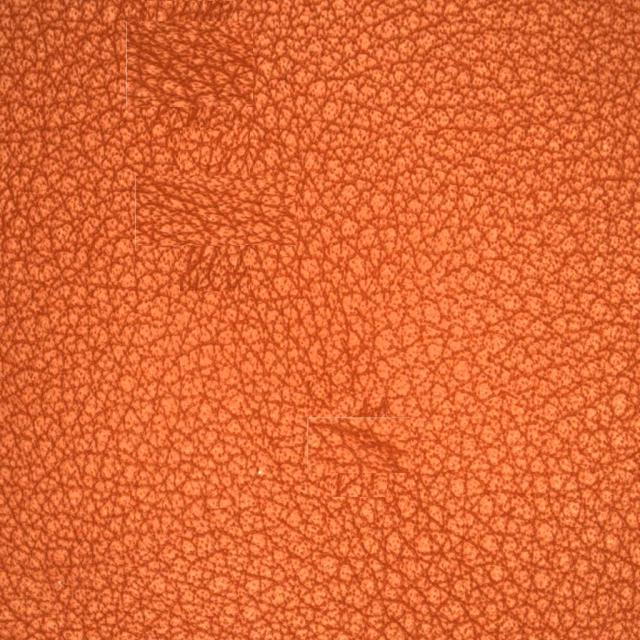Healed Injury: (110, 15, 298, 152), (283, 369, 452, 502), (158, 200, 300, 325)
